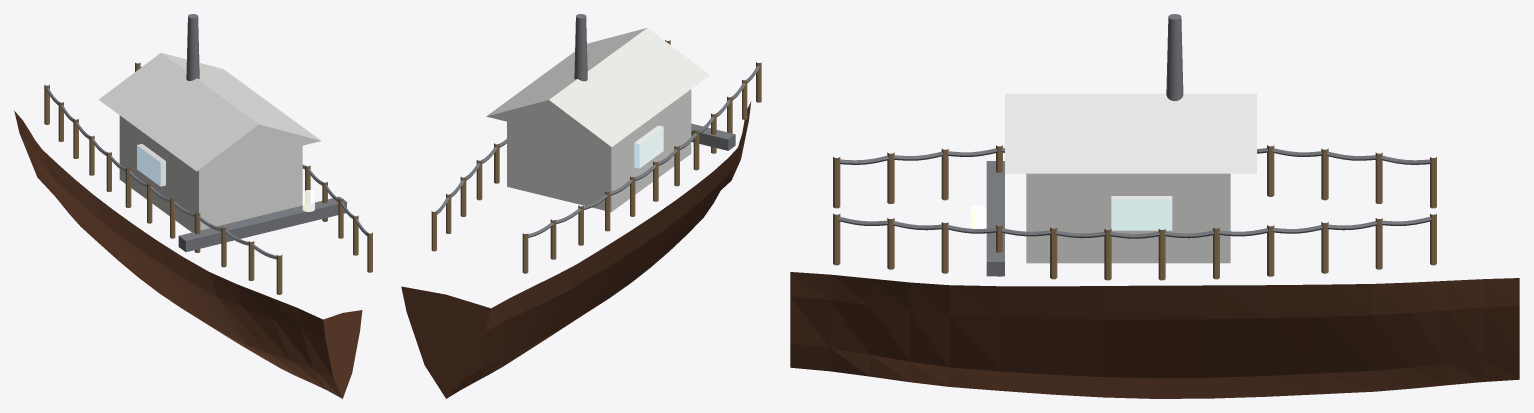
File: cutter.gltf
3 views of the same model, side by side, from view 1: azimuth 30°, elevation 25°; view 2: azimuth 150°, elevation 25°; view 3: azimuth 270°, elevation 25° (orthographic). The views are drawn at different scales.
Visible parts, largest first — view 1: cutter-cabin, cutter-hull; view 2: cutter-cabin, cutter-hull; view 3: cutter-hull, cutter-cabin.
Part boxes in pixels (bbox=[...]): cutter-cabin: bbox=[46, 14, 368, 259]; cutter-hull: bbox=[14, 62, 372, 398]; cutter-cabin: bbox=[435, 14, 759, 237]; cutter-hull: bbox=[401, 40, 761, 398]; cutter-hull: bbox=[790, 145, 1519, 398]; cutter-cabin: bbox=[838, 14, 1431, 276].
Size of the model in its own units: 1.96 by 3.18 by 5.5.
